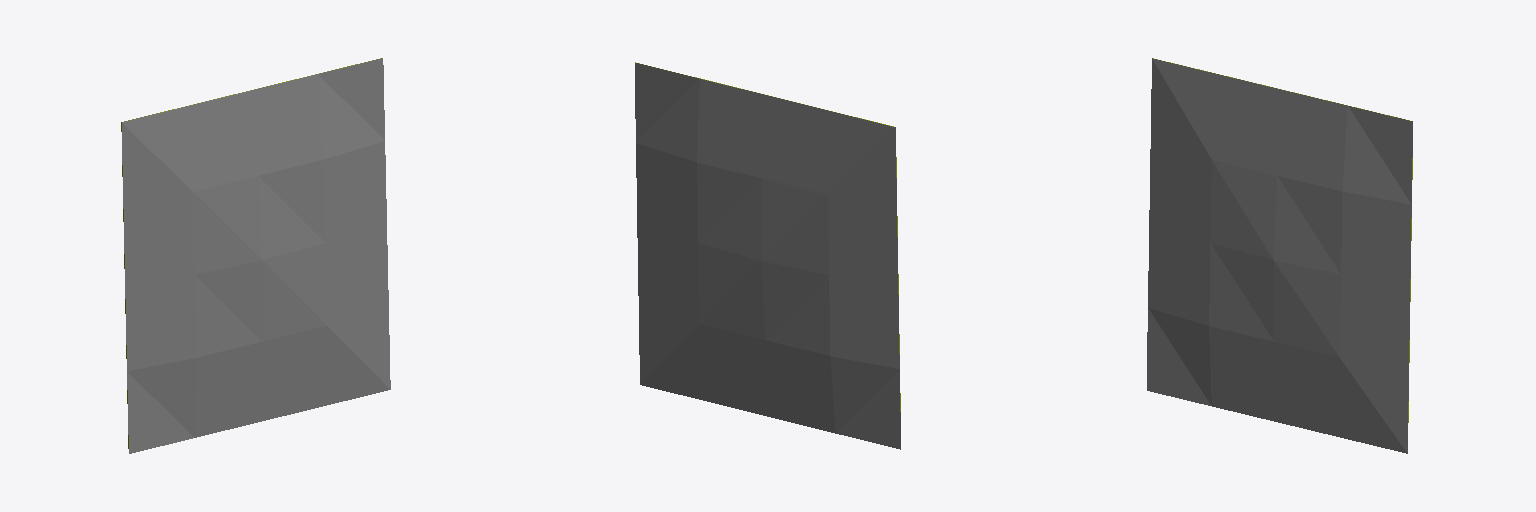
The model's file is gasaparafinada.obj.
3 renders of one model, left to right at view 1: azimuth 30°, elevation 25°; view 2: azimuth 150°, elevation 25°; view 3: azimuth 330°, elevation 25°, orthographic.
Visible parts, largest first — view 1: c010; view 2: c010; view 3: c010.
Part boxes in pixels (x1,y1,x2,y2): c010: (121,58,390,453); c010: (635,62,900,449); c010: (1147,58,1412,453).
Size of the model in its own units: 0.6578 by 0.7863 by 0.0554.